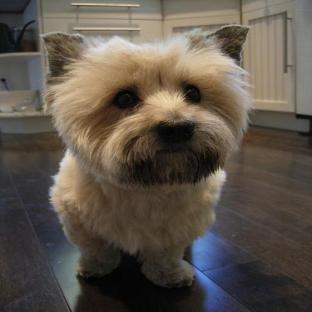Animal: (42, 25, 251, 288)
